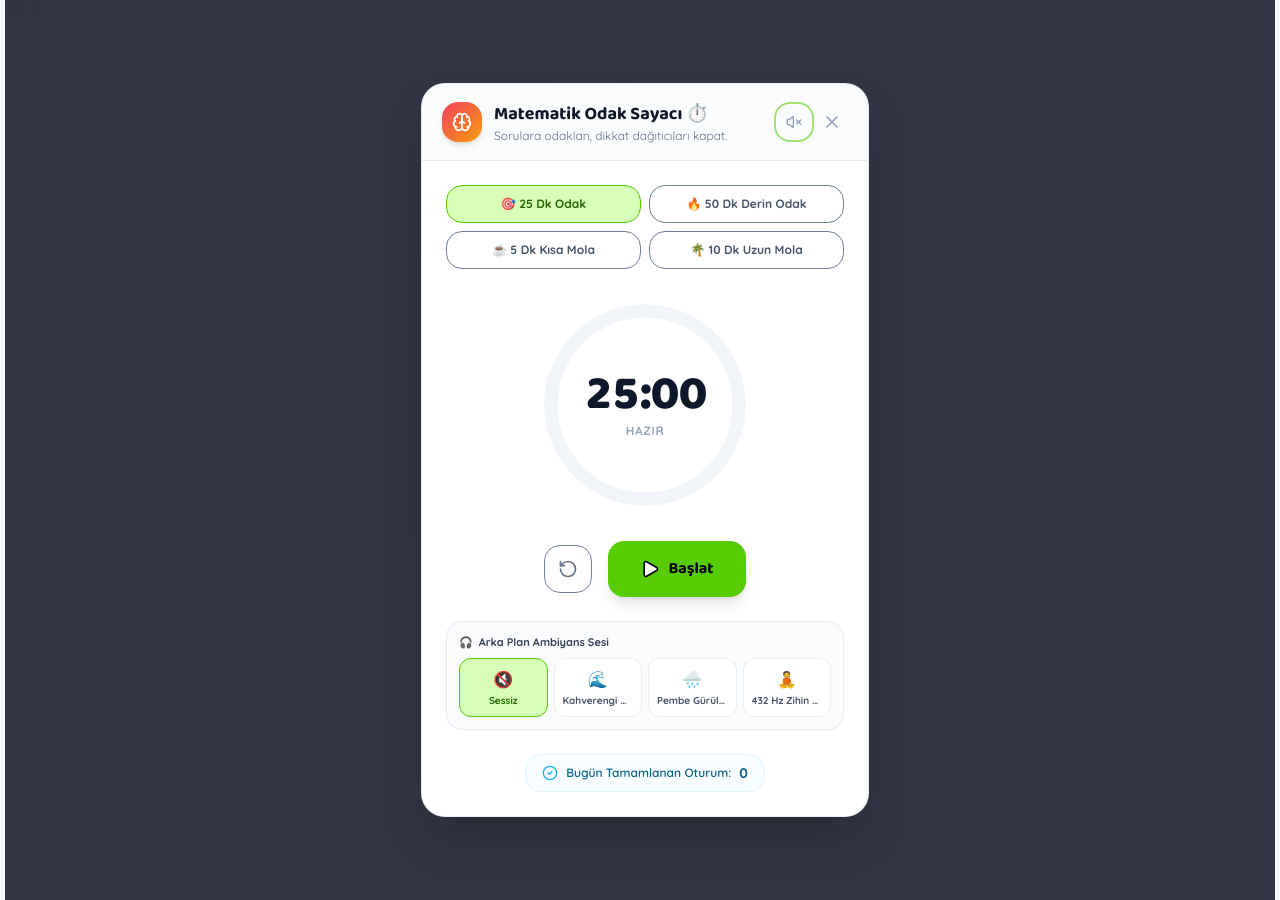
FocusPomodoroModal › renders ambient focus noise options and allows selecting noise modes
The image size is (1280, 900).
Expected: the text "Arka Plan Ambiyans Sesi" is shown, 479,634 -> 609,650
Expected: the button "🌧️ Pembe Gürültü" is shown, 648,658 -> 736,717
Note: Kahverengi gürültü seç
Click the button "🌊 Kahverengi Gürültü".
click(598, 688)  # box 554,658 -> 642,717
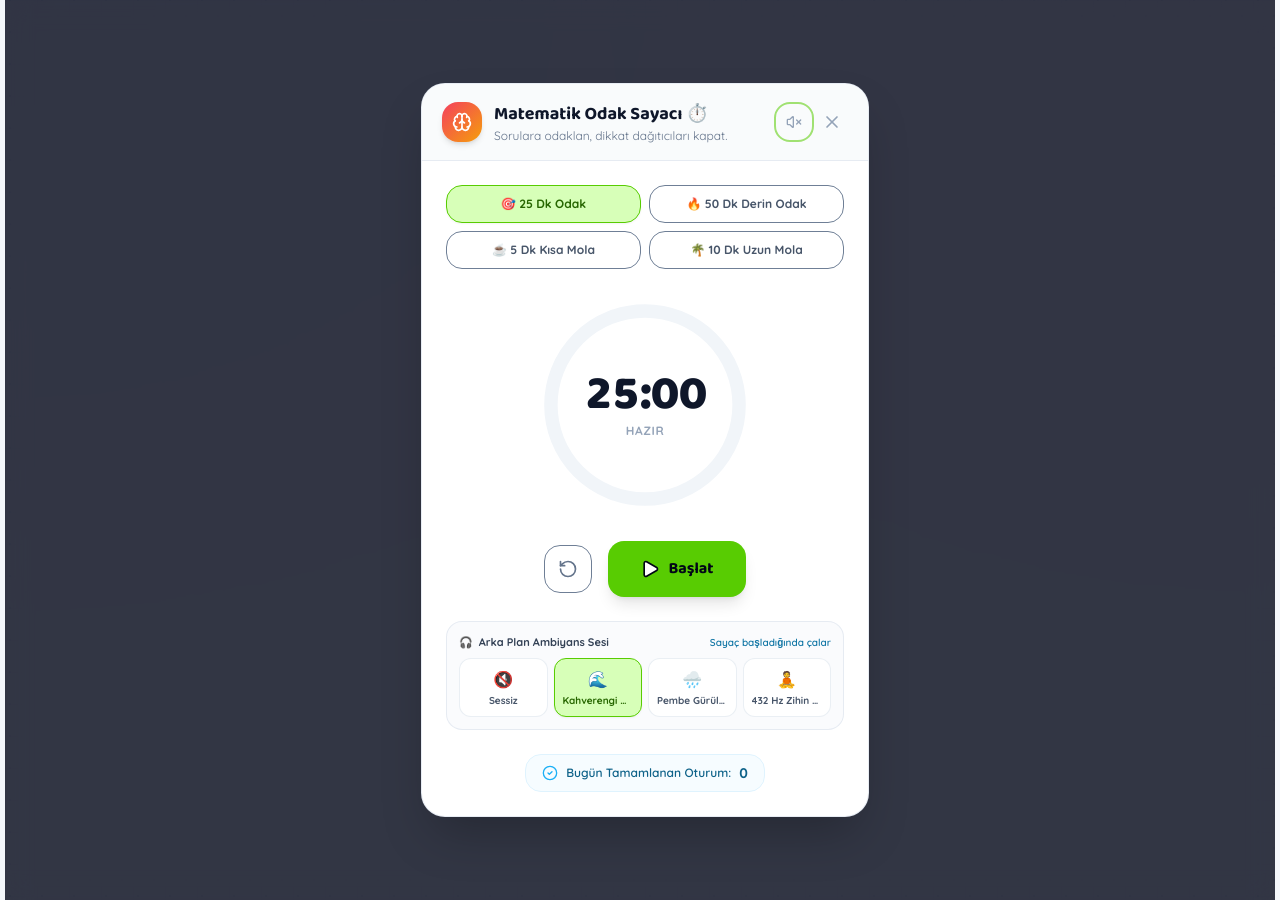
Result: the text "Sayaç başladığında çalar" is shown at 710,634 -> 831,650
